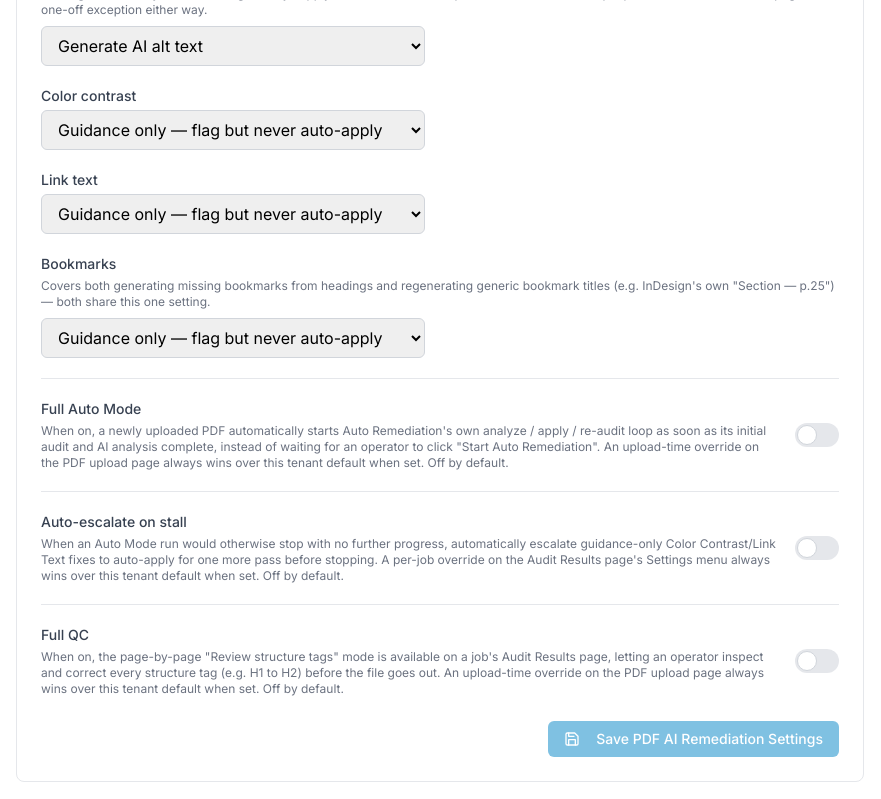
TenantWorkflowSettings — PDF AI Remediation tenant defaults › enables the Save button when only the Auto-escalate on stall toggle differs from the saved value
The image size is (881, 799).
(page scrolled)
Expected: the button "Save PDF AI Remediation Settings" is disabled, top-left (548, 721), bottom-right (839, 757)
Click the checkbox named "Auto-escalate on stall". click: x=817, y=548
box: top-left (795, 536), bottom-right (839, 560)
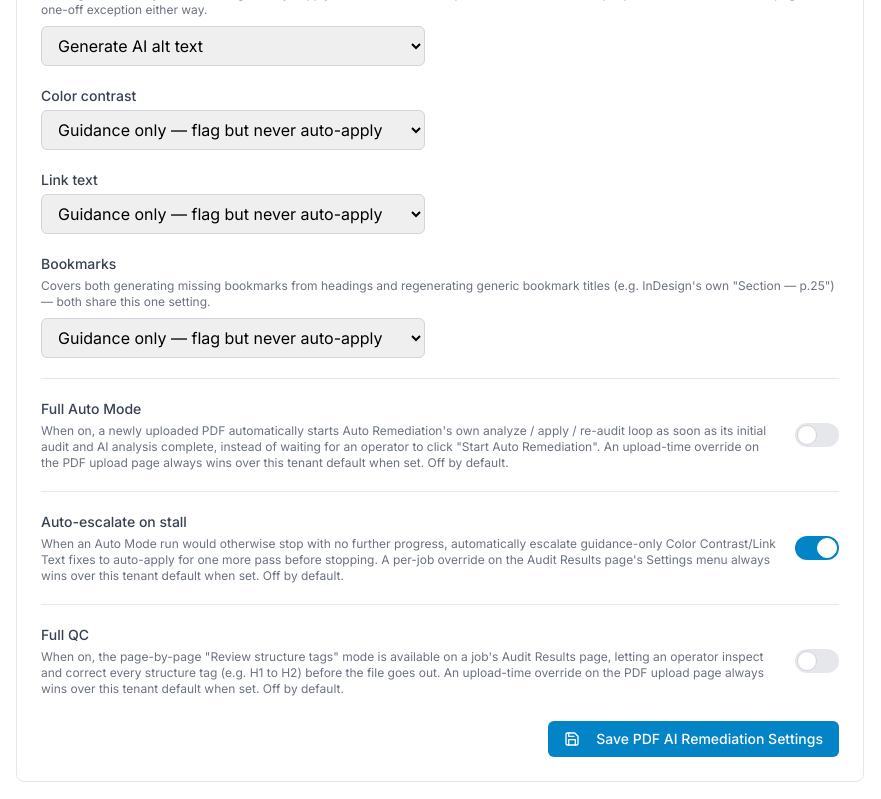
Expected: the button "Save PDF AI Remediation Settings" is enabled, top-left (548, 721), bottom-right (839, 757)
